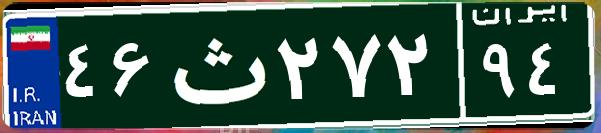2: (385, 28, 445, 110), (273, 28, 330, 110)
4: (57, 26, 110, 107), (525, 38, 570, 115)
6: (110, 28, 158, 105)
7: (330, 28, 385, 110)
9: (475, 38, 525, 113)
ث: (158, 15, 273, 115)
